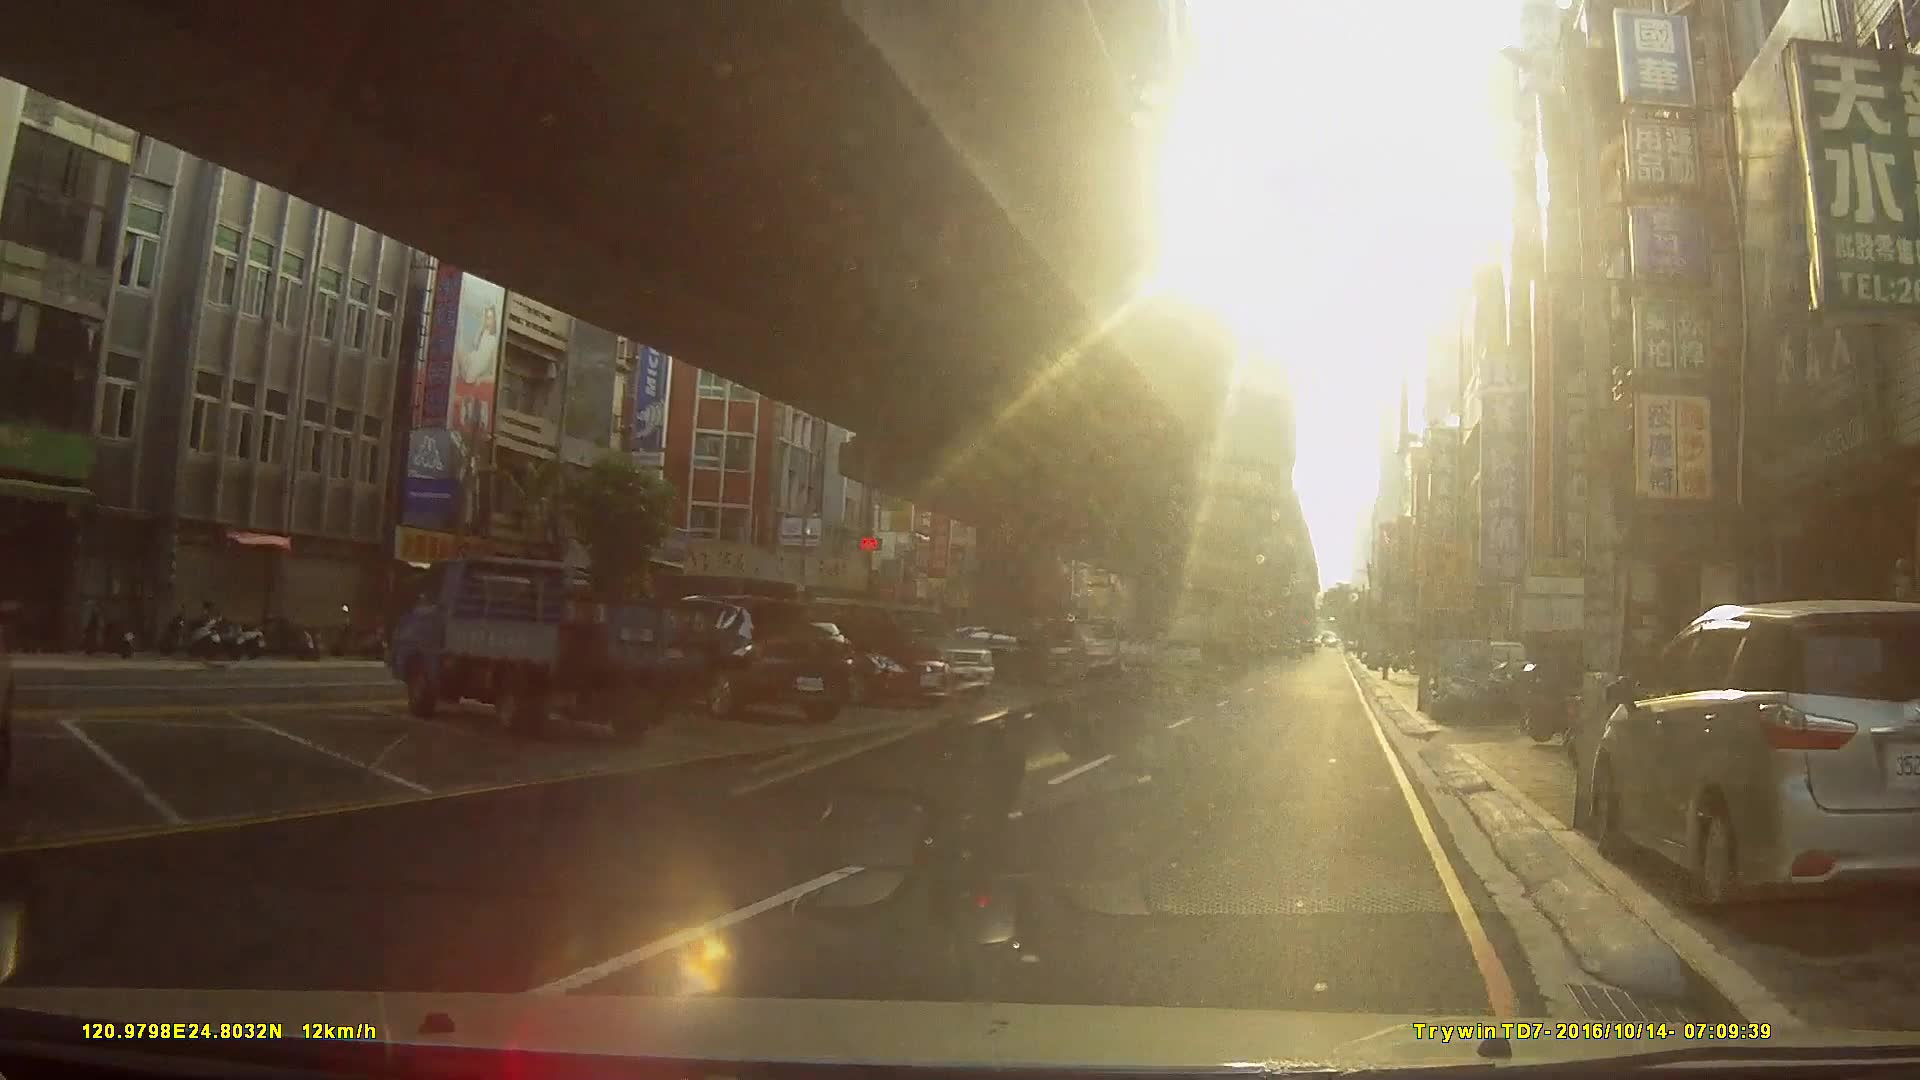vehicle: (1588, 596, 1919, 916), (382, 553, 713, 741), (645, 591, 852, 721), (773, 607, 948, 704), (923, 622, 1071, 684)
